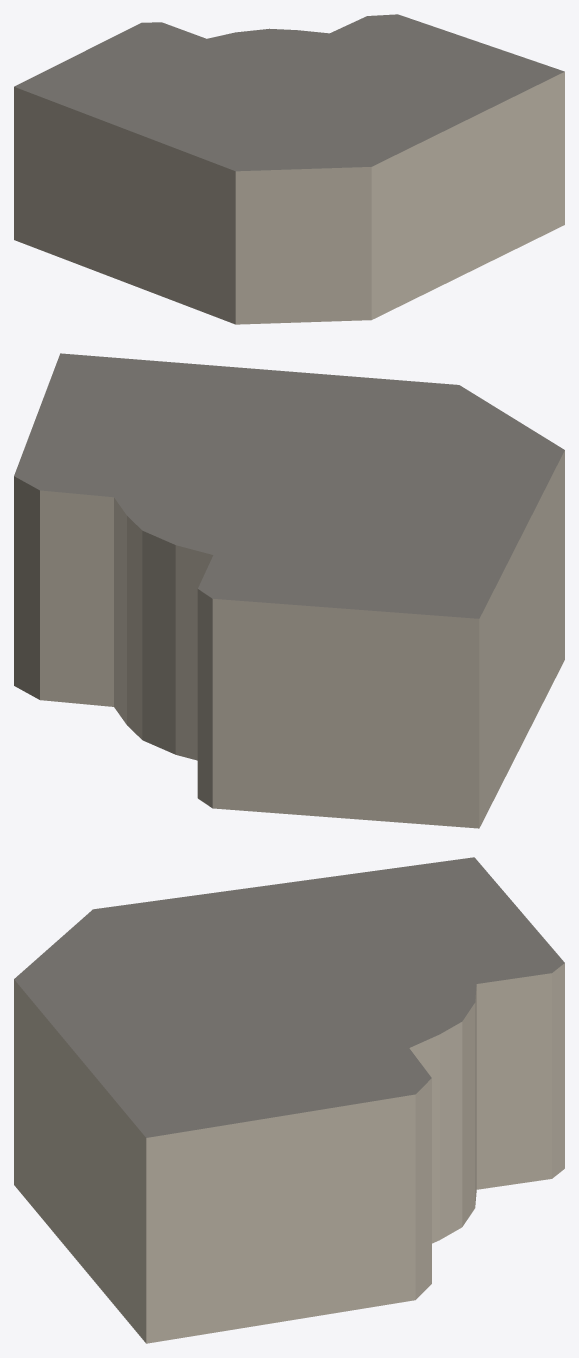
3 views of the same model, one above another, from view 1: azimuth 30°, elevation 25°; view 2: azimuth 150°, elevation 25°; view 3: azimuth 270°, elevation 25° (orthographic). The views are drawn at different scales.
Visible parts, largest first — view 1: HP-w293397519; view 2: HP-w293397519; view 3: HP-w293397519.
Part boxes in pixels (left/top/right/bottom): HP-w293397519: left=14, top=14, right=564, bottom=324; HP-w293397519: left=14, top=353, right=564, bottom=828; HP-w293397519: left=14, top=857, right=564, bottom=1343.
Bounding box in the file's own units: 52.67 × 18 × 43.68.
